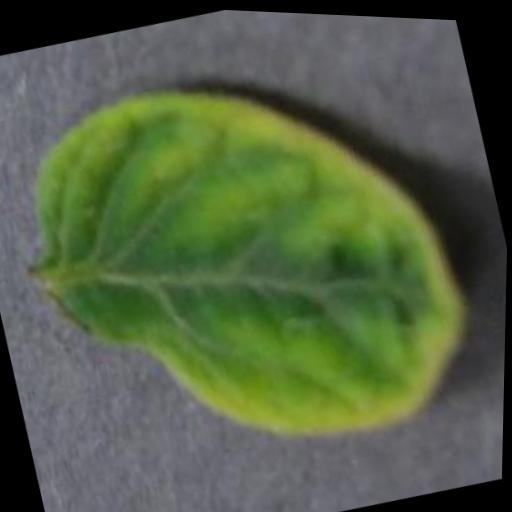Yellow Leaf Curl Virus: (3, 20, 494, 502)
